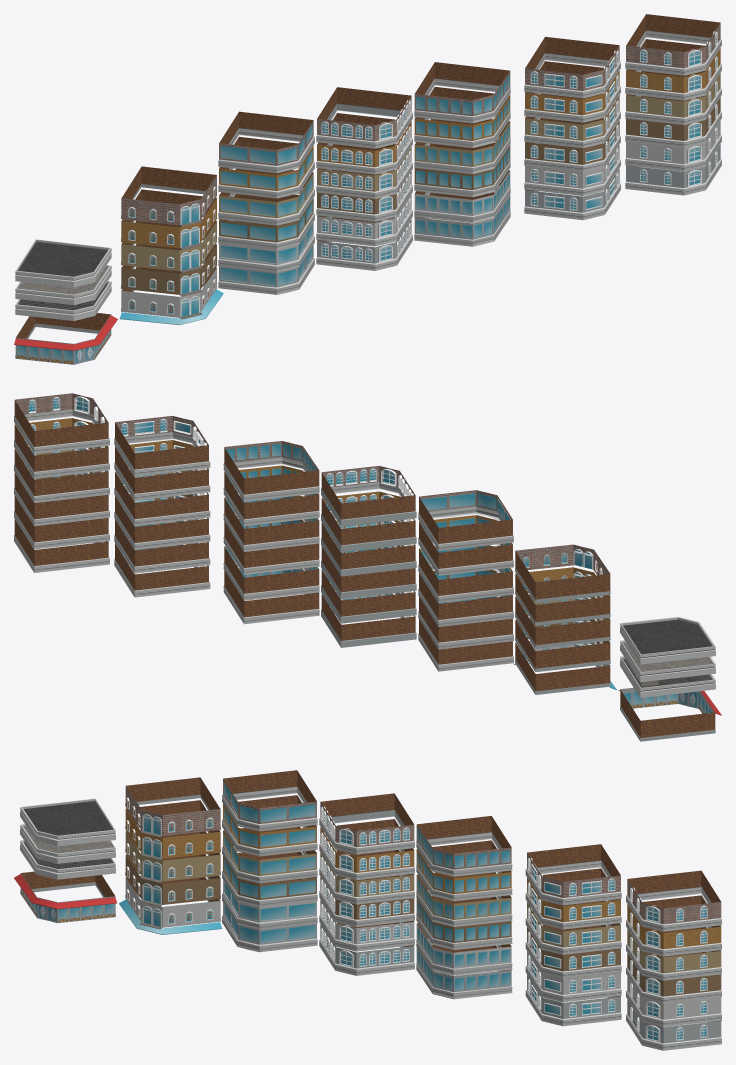
File: ModularBuilding_01.fbx
3 renders of one model, top to bottom at view 1: azimuth 30°, elevation 25°; view 2: azimuth 150°, elevation 25°; view 3: azimuth 330°, elevation 25°, orthographic.
Visible parts, largest first — view 1: Mid_1_6, Mid_4_6, Mid_5_6, Mid_2_6, Mid_3_6, Base_1_5, Roof_1_3, Mid_3_5, Mid_4_5, Mid_5_5, Mid_1_5, Mid_2_5 (+29 smaller); view 2: Mid_3_6, Mid_1_6, Mid_5_6, Mid_2_6, Mid_4_6, Base_1_5, Roof_1_3, Base_2_1, Mid_3_5, Mid_4_5, Mid_5_5, Mid_1_5 (+27 smaller); view 3: Mid_2_6, Mid_5_6, Mid_4_6, Mid_3_6, Mid_1_6, Base_1_5, Roof_1_3, Mid_3_5, Mid_4_5, Mid_5_5, Mid_1_5, Mid_2_5 (+29 smaller).
Part boxes in pixels (x1,y1,x2,y2): Mid_1_6: [218, 111, 314, 173]; Mid_4_6: [524, 36, 620, 98]; Mid_5_6: [625, 14, 721, 75]; Mid_2_6: [316, 87, 412, 148]; Mid_3_6: [414, 62, 510, 123]; Base_1_5: [121, 166, 216, 226]; Roof_1_3: [15, 239, 111, 287]; Mid_3_5: [414, 87, 510, 147]; Mid_4_5: [524, 61, 620, 122]; Mid_5_5: [625, 39, 721, 100]; Mid_1_5: [218, 137, 314, 198]; Mid_2_5: [316, 113, 412, 174]; Mid_3_6: [223, 441, 319, 501]; Mid_1_6: [418, 490, 513, 550]; Mid_5_6: [14, 393, 109, 453]; Mid_2_6: [321, 466, 416, 526]; Mid_4_6: [114, 415, 210, 476]; Base_1_5: [515, 544, 610, 603]; Roof_1_3: [620, 617, 715, 664]; Base_2_1: [620, 687, 715, 741]; Mid_3_5: [223, 465, 319, 526]; Mid_4_5: [114, 440, 210, 500]; Mid_5_5: [14, 418, 109, 478]; Mid_1_5: [418, 515, 513, 575]; Mid_2_6: [319, 793, 414, 854]; Mid_5_6: [626, 870, 721, 931]; Mid_4_6: [525, 844, 621, 905]; Mid_3_6: [416, 816, 512, 876]; Mid_1_6: [222, 770, 317, 831]; Base_1_5: [125, 777, 220, 837]; Roof_1_3: [20, 798, 115, 846]; Mid_3_5: [416, 840, 512, 901]; Mid_4_5: [525, 868, 621, 929]; Mid_5_5: [626, 895, 721, 956]; Mid_1_5: [222, 795, 317, 856]; Mid_2_5: [319, 819, 414, 880].
Size of the model in its own units: 722 by 163 by 90.4.
